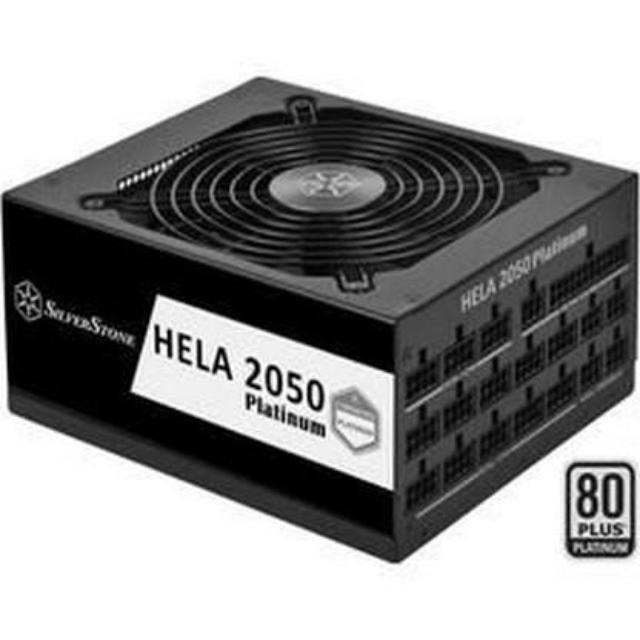PSU: (0, 64, 640, 573)
